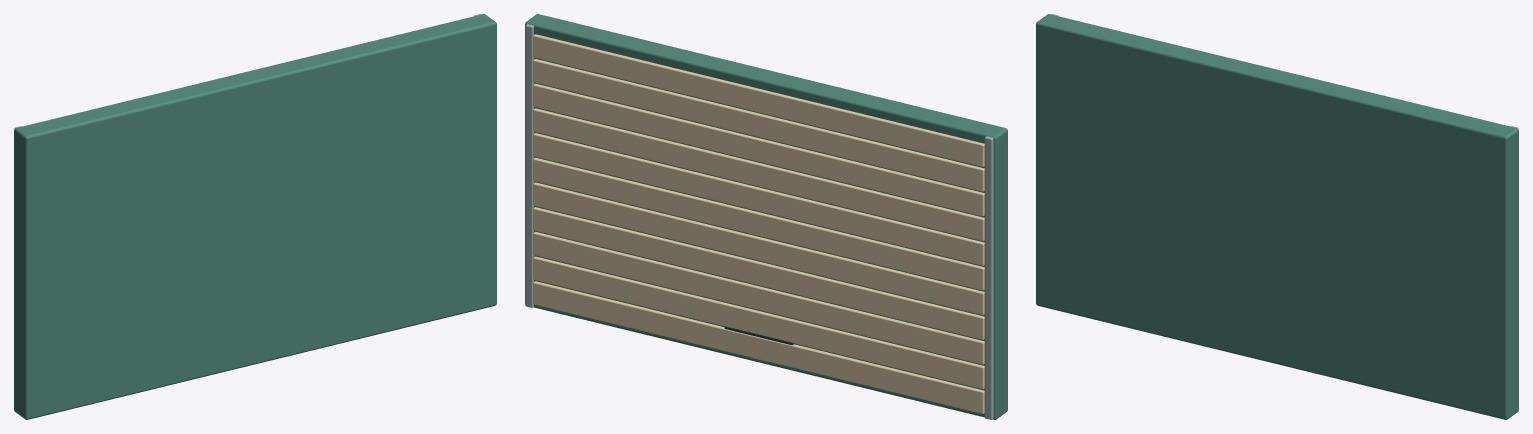
The model's file is interaction-shutter.glb.
3 views of the same model, side by side, from view 1: azimuth 30°, elevation 25°; view 2: azimuth 150°, elevation 25°; view 3: azimuth 330°, elevation 25° (orthographic).
Parts seen in each view (by area): view 1: shutter_green; view 2: shutter_cream, shutter_green, shutter_steel; view 3: shutter_green.
Boxes of the visible parts, x1,y1,x2,y2 form: shutter_green: (14,14,496,419); shutter_cream: (533,34,984,413); shutter_green: (525,14,1007,419); shutter_steel: (525,24,993,419); shutter_green: (1036,14,1518,419).
Size of the model in its own units: 4 by 2.3 by 0.2185.
